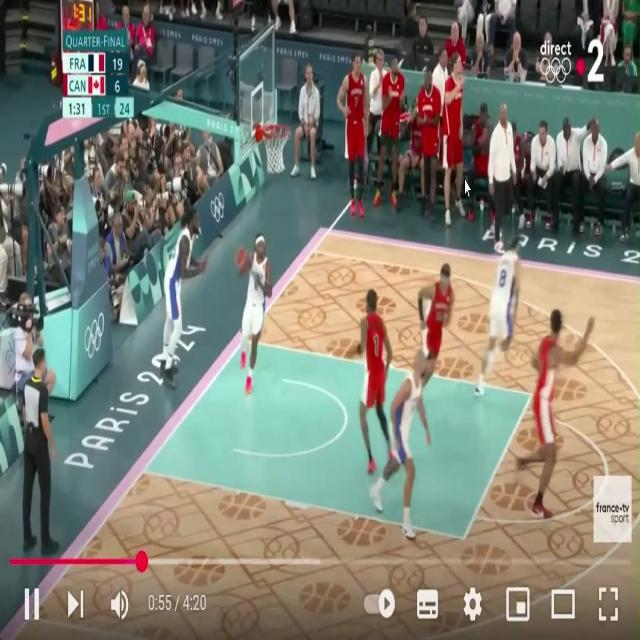ball_handler: (232, 231, 276, 398)
